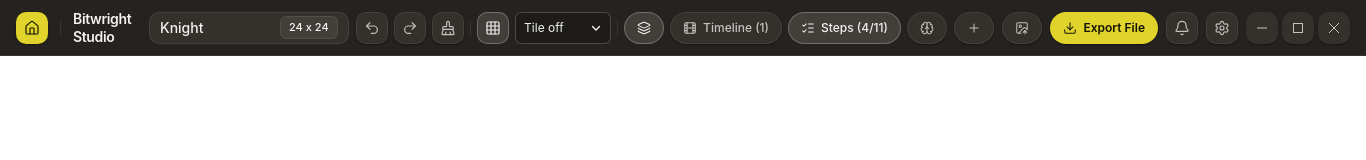
Test: StudioHeader › renames on Enter and on blur, and puts the name back on Escape
expect the text "24 x 24" is shown: met, box [280,16,338,39]
Replace the text in the field named "Sprite name" with "Paladin" at (216, 28), box [160,18,272,38]
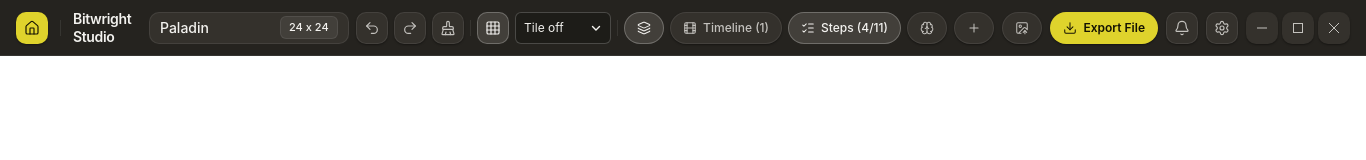
Press Enter in the field named "Sprite name", box [160,18,272,38]
Replace the text in the field named "Sprite name" with "Squire" at (216, 28), box [160,18,272,38]
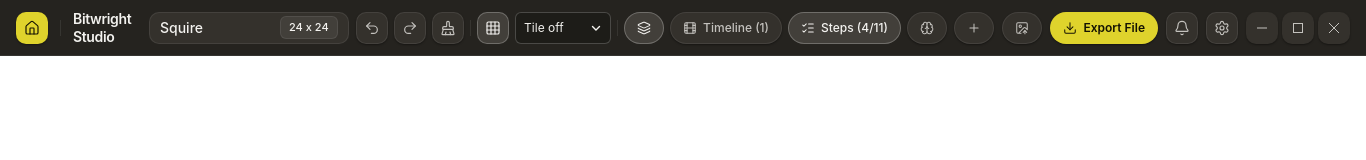
Replace the text in the field named "Sprite name" with "Mistake" at (216, 28), box [160,18,272,38]
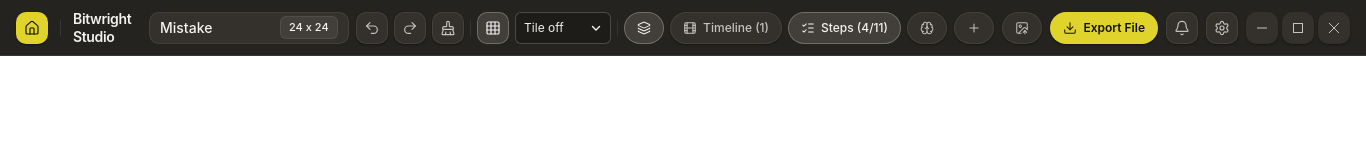
Press Escape in the field named "Sprite name", box [160,18,272,38]
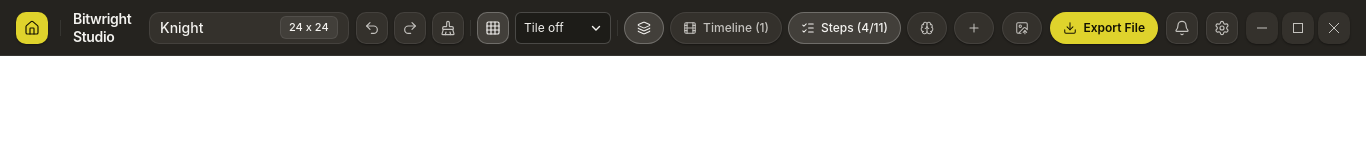
expect the field named "Sprite name" holds "Knight": met, box [160,18,272,38]
